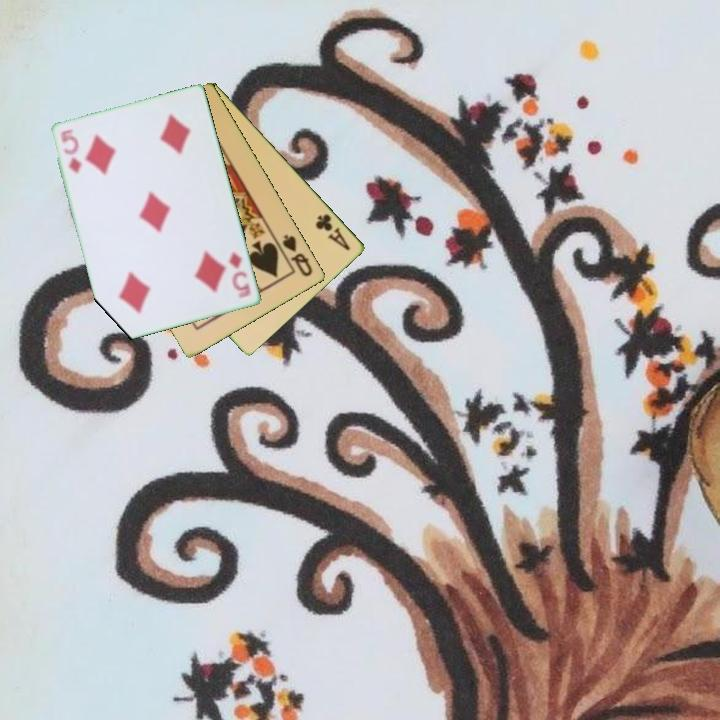5d: (226, 248, 254, 301), (57, 126, 85, 177)
Ac: (312, 210, 353, 254)
Qs: (279, 230, 316, 280)
